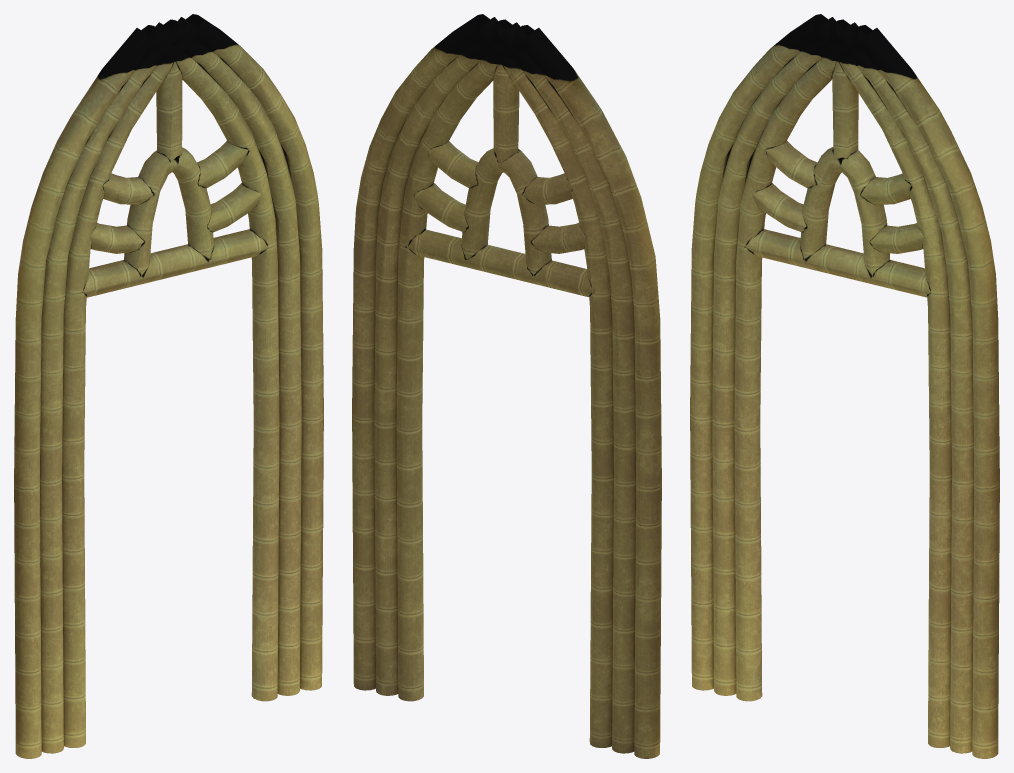
The model's file is Bamboo Door_LOD2.glb.
The picture shows the model from 3 angles, left to right: view 1: azimuth 30°, elevation 25°; view 2: azimuth 150°, elevation 25°; view 3: azimuth 330°, elevation 25°; orthographic projection.
Visible parts, largest first — view 1: Bamboo Door_PROCESSED.001_LOD2; view 2: Bamboo Door_PROCESSED.001_LOD2; view 3: Bamboo Door_PROCESSED.001_LOD2.
Boxes of the visible parts, left/top/right/bottom form: Bamboo Door_PROCESSED.001_LOD2: left=14, top=14, right=323, bottom=758; Bamboo Door_PROCESSED.001_LOD2: left=352, top=14, right=661, bottom=758; Bamboo Door_PROCESSED.001_LOD2: left=690, top=14, right=999, bottom=758.
Bounding box in the file's own units: 5.17 × 11.25 × 0.4131.
Materials: 1 (1 with a texture image).
